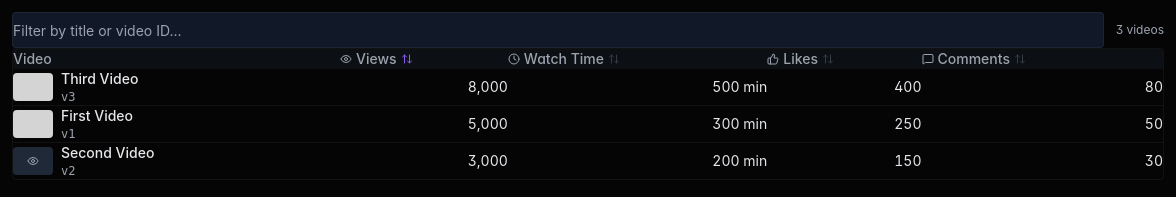
VideoPerformanceTable › filters by video ID
Type "v2" into the field with placeholder "Filter by title or video ID...".
click(558, 30); type("v2")  # box [12, 12, 1104, 48]
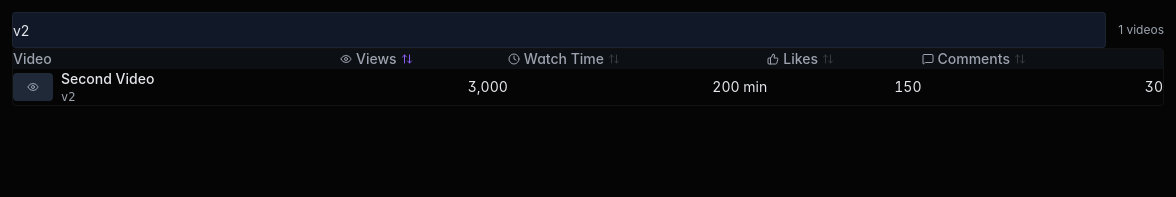
Expected: the text "Second Video" is shown, [61, 69, 154, 89]
Expected: the text "First Video" is gone
